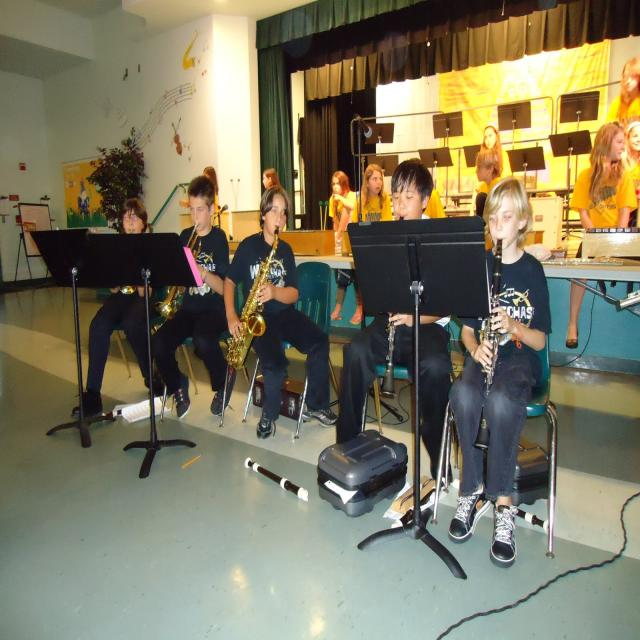clarinet: (472, 236, 507, 455), (379, 215, 408, 401)
saxophone: (225, 228, 282, 370)
